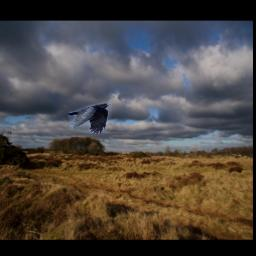Crow: (68, 103, 111, 134)
